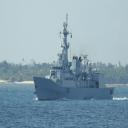Fragata: (34, 7, 117, 104)
